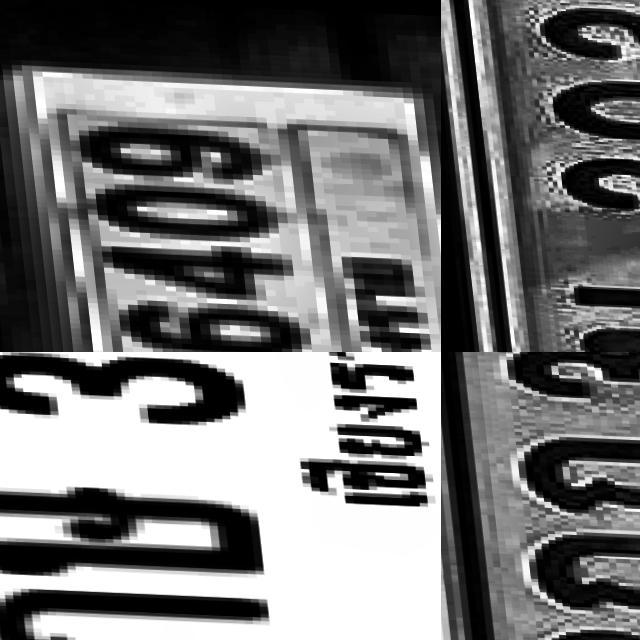license-plate: (0, 0, 441, 352), (0, 352, 441, 640), (441, 0, 640, 352), (441, 352, 640, 640)
